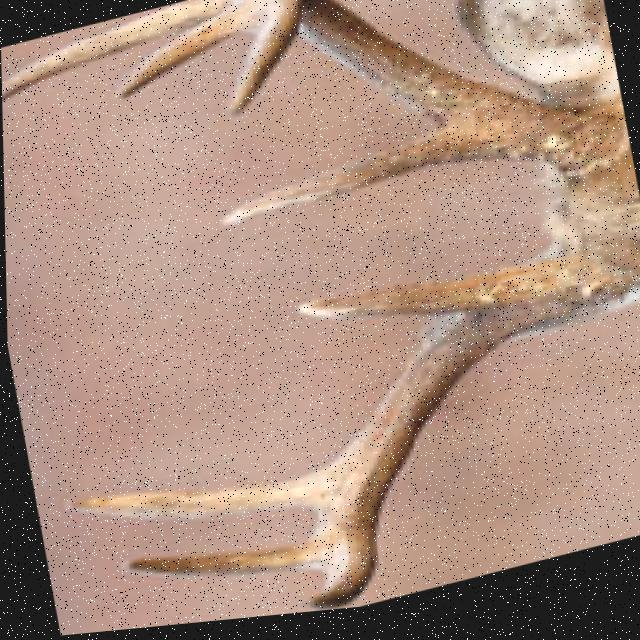L-F: (228, 0, 625, 177)
L-G1: (219, 136, 504, 229)
R-F: (307, 267, 640, 615)
R-G1: (294, 278, 510, 326)
R-G2: (63, 473, 329, 522)
R-G3: (122, 549, 320, 581)
